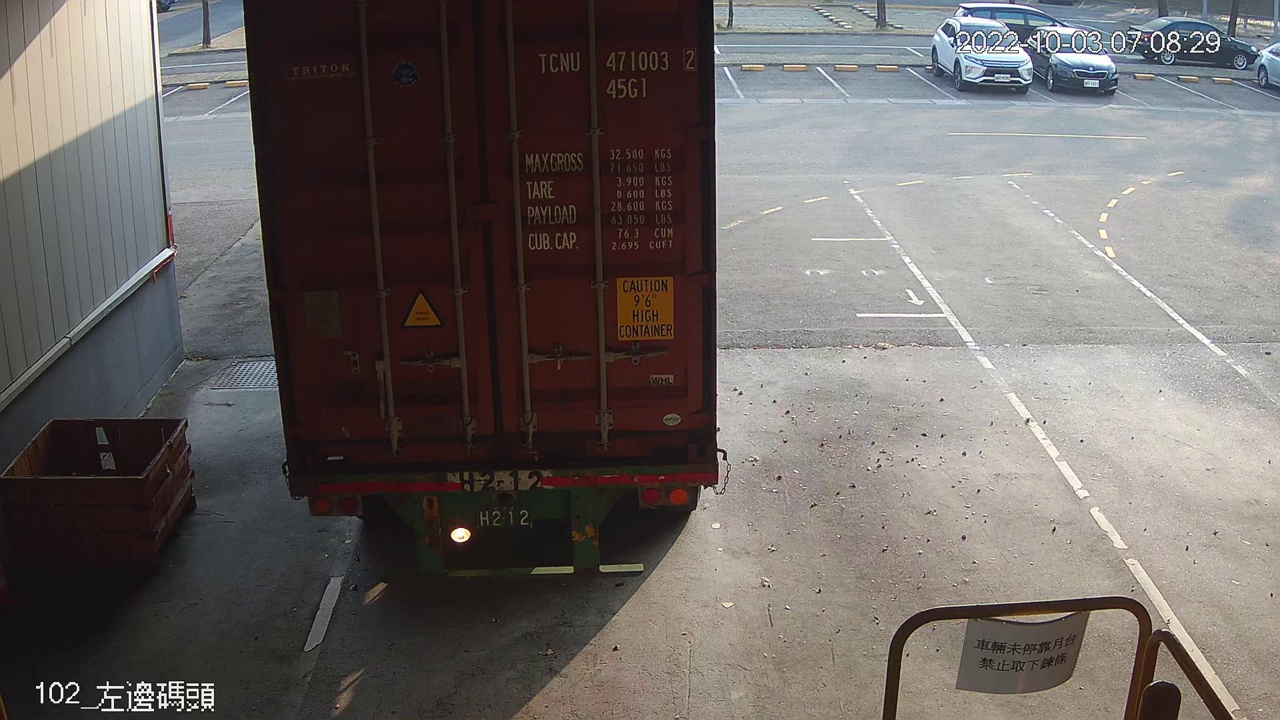container: (531, 43, 700, 105)
